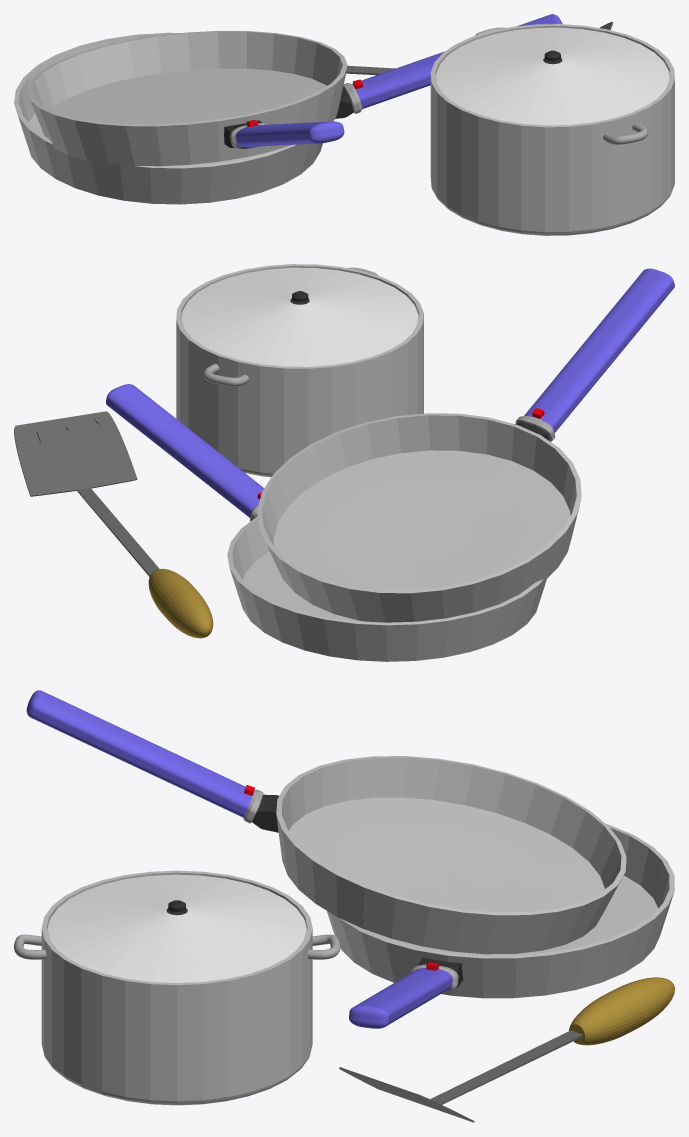
File: Crockery.fbx
The picture shows the model from 3 angles, top to bottom: view 1: azimuth 30°, elevation 25°; view 2: azimuth 150°, elevation 25°; view 3: azimuth 270°, elevation 25°; orthographic projection. The views are drawn at different scales.
Parts seen in each view (by area): view 1: FryingPan.001, Body, Cover, FryingPan, MainPen, MainPen.001, Pen.001; view 2: FryingPan.001, Body, Cover, FryingPan, Tip, MainPen.001, MainPen, Wood, ShoulderBlade, Pen.001; view 3: FryingPan.001, Body, Cover, FryingPan, MainPen.001, Wood, MainPen, ShoulderBlade, Pen.001, Tip, FlyingPanPen.001.
Boxes of the visible parts, x1,y1,x2,y2 form: FryingPan.001: [27, 31, 347, 166]; Body: [430, 24, 674, 235]; Cover: [436, 27, 669, 125]; FryingPan: [14, 32, 322, 204]; MainPen: [352, 14, 562, 108]; MainPen.001: [235, 121, 344, 146]; Pen.001: [475, 27, 648, 144]; FryingPan.001: [257, 413, 581, 622]; Body: [176, 264, 423, 477]; Cover: [182, 267, 417, 366]; FryingPan: [227, 516, 546, 661]; Tip: [14, 411, 137, 496]; MainPen.001: [524, 268, 674, 432]; MainPen: [106, 384, 264, 517]; Wood: [148, 568, 213, 638]; ShoulderBlade: [77, 488, 159, 576]; Pen.001: [203, 267, 378, 386]; FryingPan.001: [276, 756, 626, 954]; Body: [41, 870, 312, 1105]; Cover: [48, 874, 306, 982]; FryingPan: [327, 824, 674, 998]; MainPen.001: [26, 690, 252, 817]; Wood: [569, 977, 674, 1045]; MainPen: [349, 968, 452, 1028]; ShoulderBlade: [430, 1030, 583, 1104]; Pen.001: [14, 934, 340, 959]; Tip: [339, 1067, 474, 1122]; FlyingPanPen.001: [252, 794, 278, 832].
Bounding box in the file's own units: 0.8084 × 0.758 × 0.2855.
